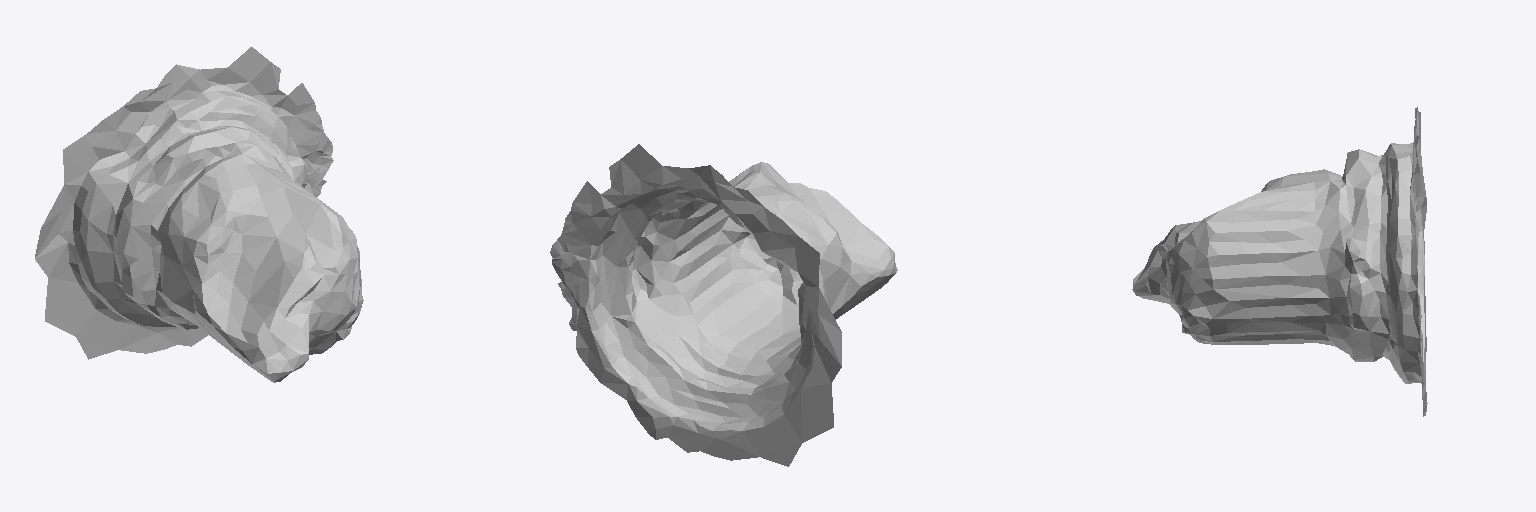
File: pillar.obj
3 renders of one model, left to right at view 1: azimuth 30°, elevation 25°; view 2: azimuth 150°, elevation 25°; view 3: azimuth 270°, elevation 25°, orthographic.
Size of the model in its own units: 8.75 by 8.25 by 7.57.